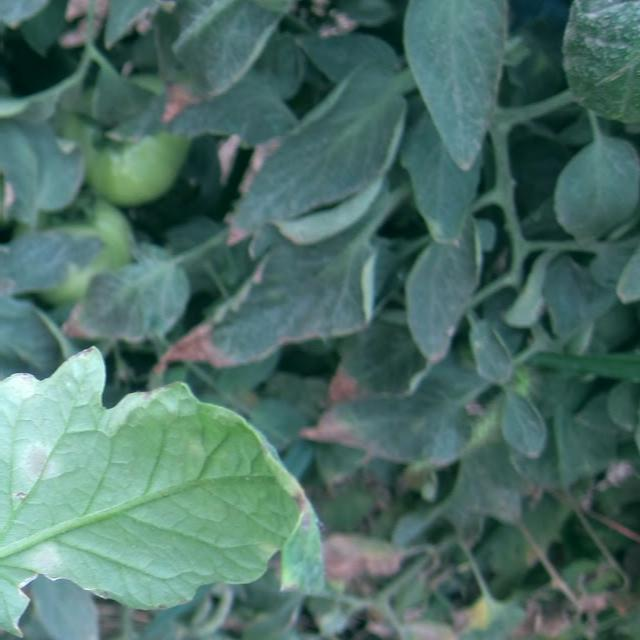Tomato mold leaf: (0, 345, 383, 622)
